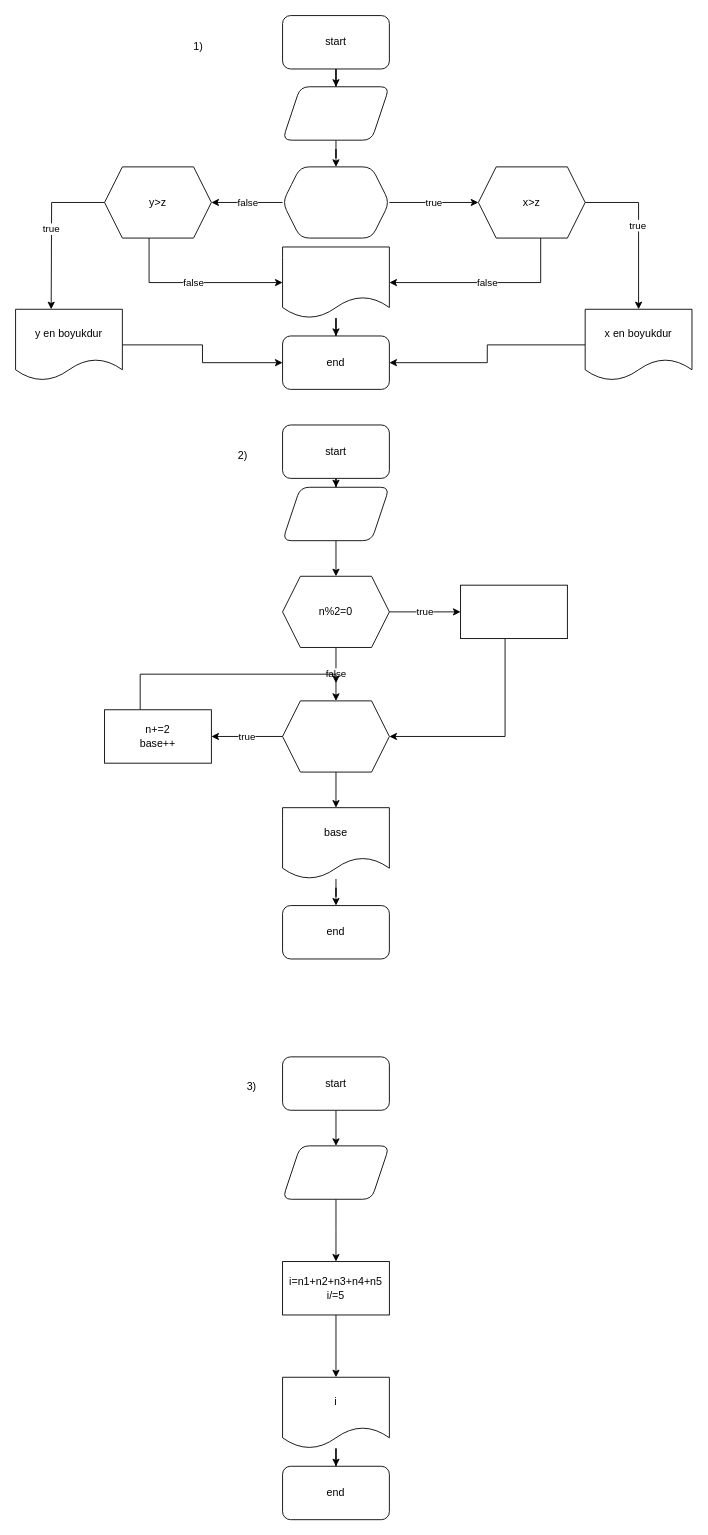
Some shapes in this 708 by 1535 pixel diagram are drawn without their labels. The centre of each missing label's shape, as x and y in pixels:
n++: the point at 513,611
n,m base: the point at 335,513
n1,n2,n3,n4,n5: the point at 335,1172
n<m: the point at 335,736
x y z: the point at 335,113
x>y: the point at 335,202
z en boyukdur: the point at 335,282
